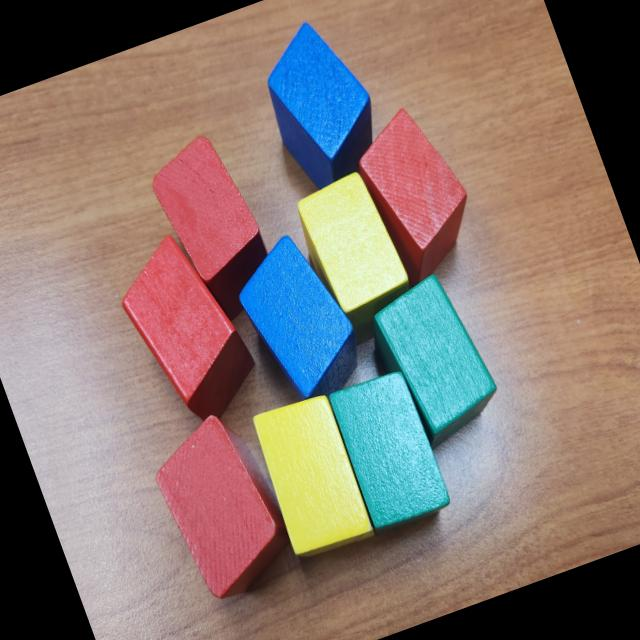blue: (246, 9, 394, 197), (224, 224, 370, 409)
green: (359, 266, 511, 457), (326, 364, 458, 536)
red: (105, 222, 270, 438), (140, 402, 304, 608), (142, 127, 287, 332), (344, 96, 492, 292)
yellow: (288, 167, 427, 352), (246, 389, 376, 560)
